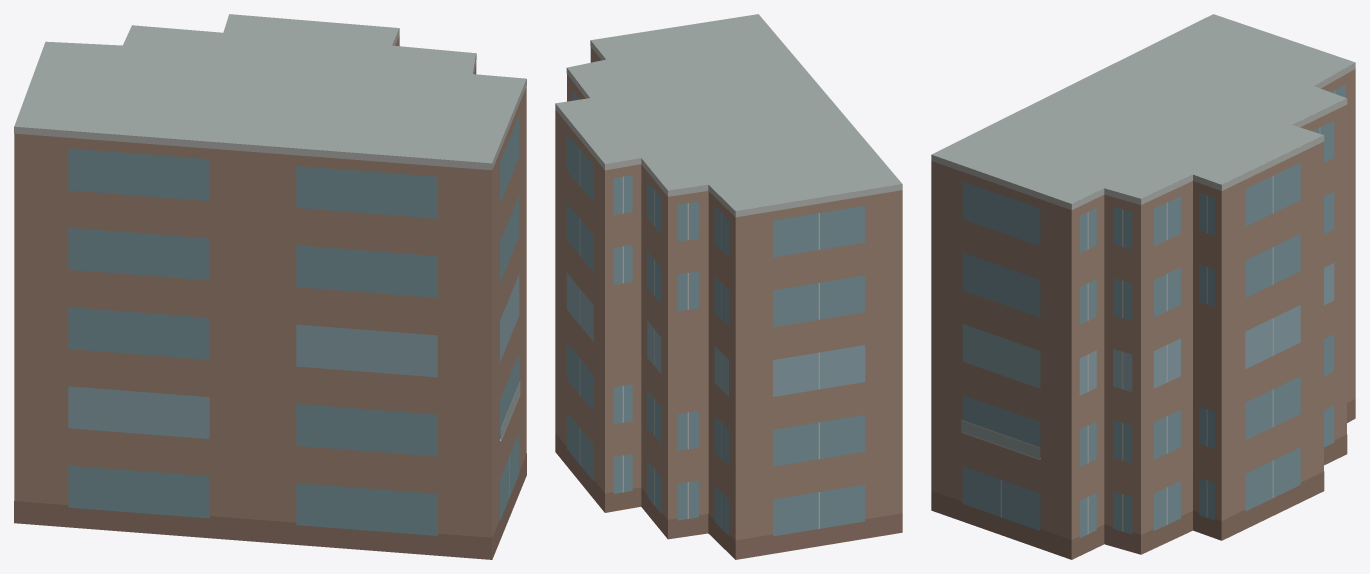
Rendered from survey-upis-32835596.glb.
The picture shows the model from 3 angles, left to right: view 1: azimuth 30°, elevation 25°; view 2: azimuth 150°, elevation 25°; view 3: azimuth 270°, elevation 25°; orthographic projection. The views are drawn at different scales.
Visible parts, largest first — view 1: survey-upis-32835596.tmp; view 2: survey-upis-32835596.tmp; view 3: survey-upis-32835596.tmp.
Part boxes in pixels (x1,y1,x2,y2): survey-upis-32835596.tmp: [14, 14, 526, 559]; survey-upis-32835596.tmp: [555, 14, 902, 559]; survey-upis-32835596.tmp: [931, 14, 1355, 559].
Bounding box in the file's own units: 15.98 × 13.95 × 15.09.
